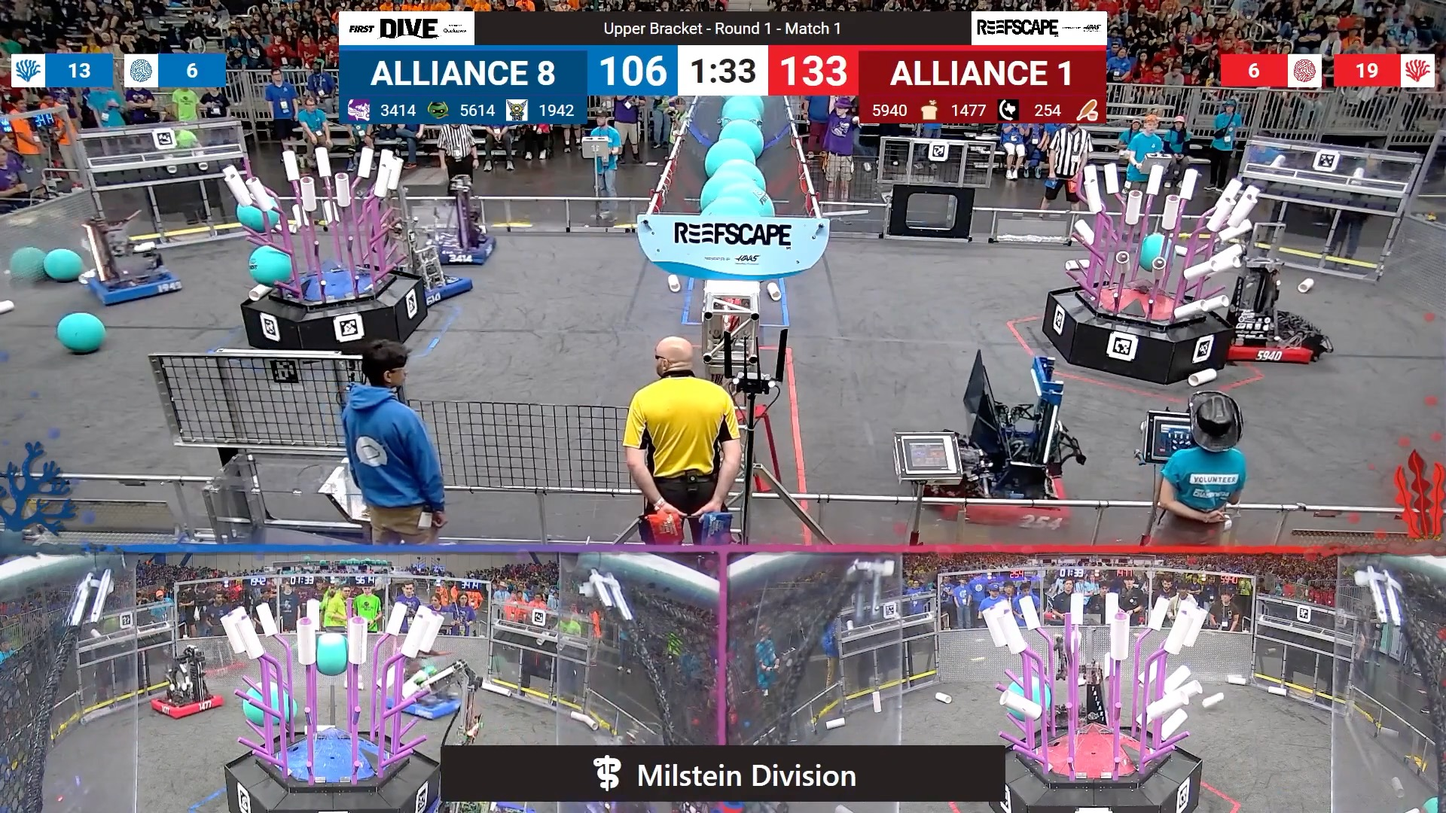bumpers: (910, 447, 1076, 532), (1220, 315, 1329, 373), (81, 263, 192, 310), (413, 228, 502, 269), (399, 269, 479, 308), (144, 688, 229, 723)
